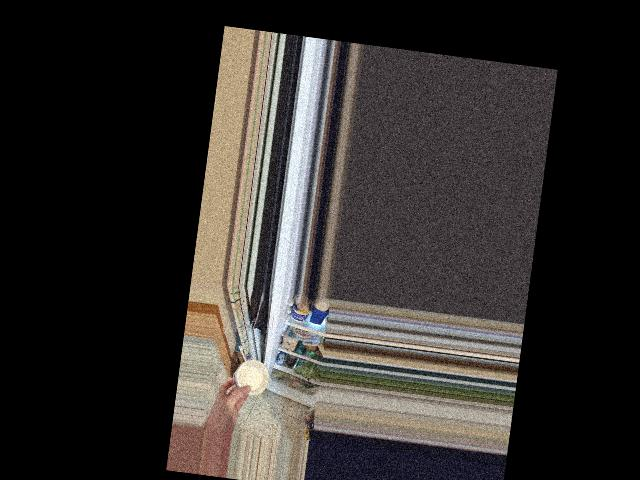cotage: (228, 357, 267, 399)
